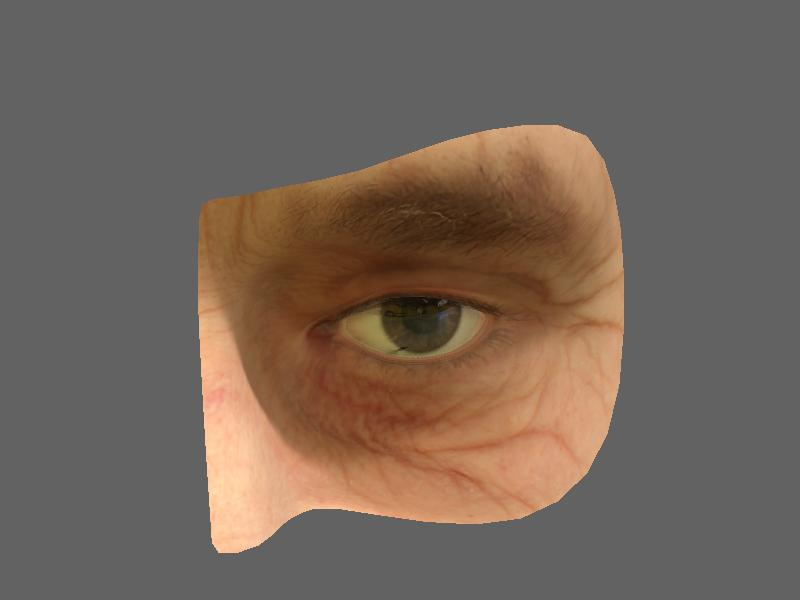iris: (381, 299, 461, 351)
